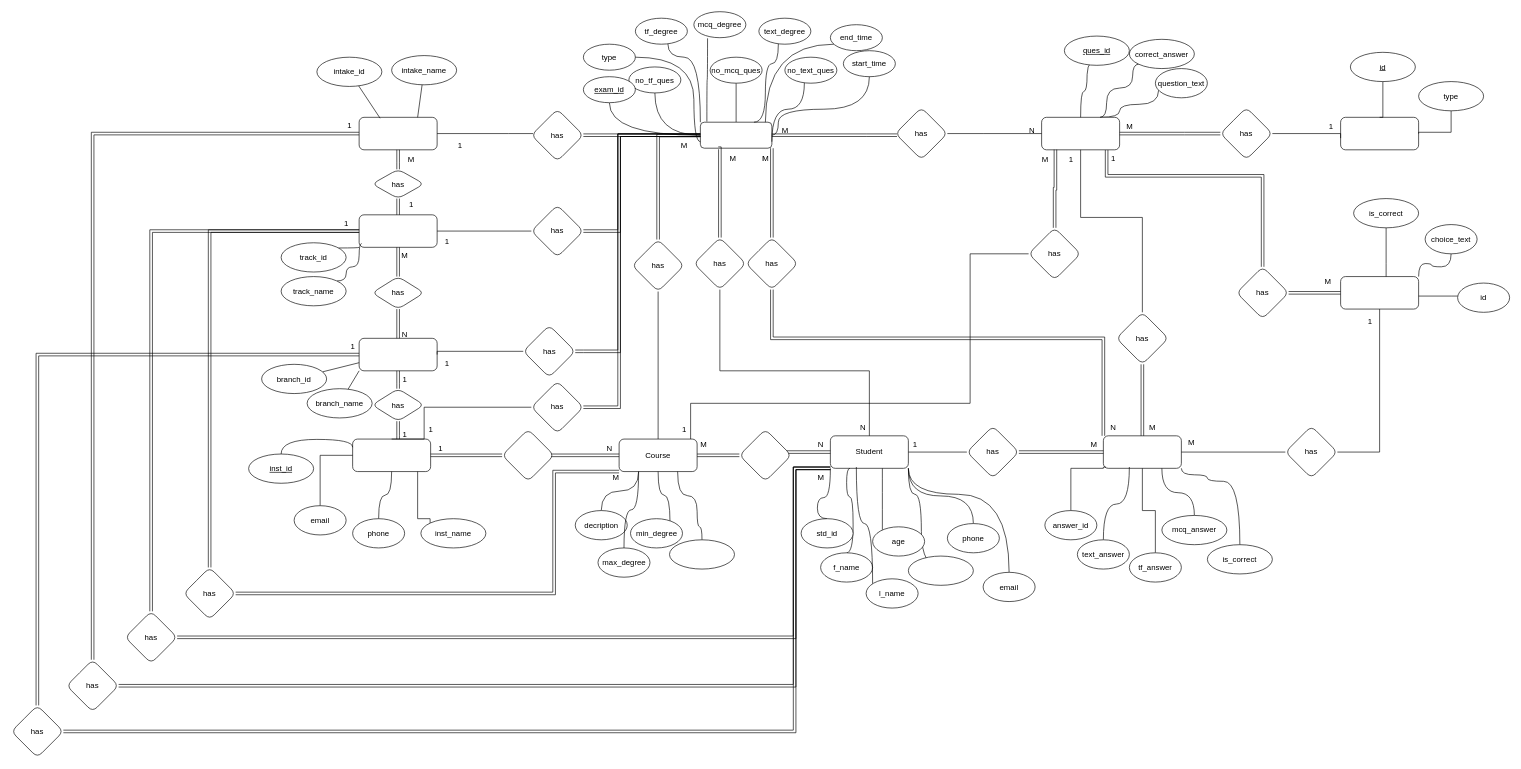
This 1521x769 diagram has some shape labels left out. Each missing label, with the box of its shape:
address: (908, 555, 973, 585)
Branch: (358, 338, 437, 371)
crs_name: (669, 539, 734, 569)
enroll: (739, 429, 791, 481)
Exam: (700, 122, 772, 148)
Instructor: (352, 438, 431, 472)
Intake: (358, 117, 437, 150)
MCQ_Choice: (1340, 276, 1419, 309)
Question: (1041, 117, 1120, 150)
Question_Type: (1340, 117, 1419, 150)
StudentAnswer: (1103, 435, 1181, 468)
teach: (501, 429, 554, 481)
Track: (358, 214, 437, 247)
